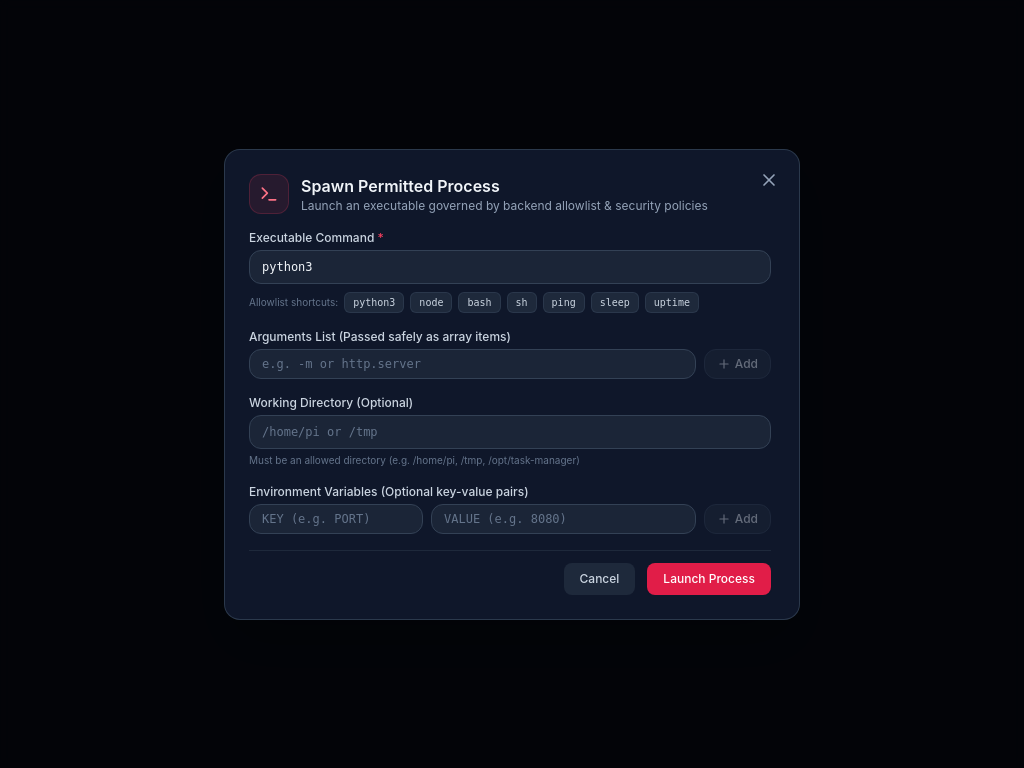
Test: CreateProcessDialog › Bug Fix 2: Form state resets on re-open › resets success view when dialog re-opens after a successful spawn
This screenshot has width=1024, height=768.
Later steps or results of the test are not shown.
Click the button "Launch Process" at (709, 578), box [647,562,771,594]
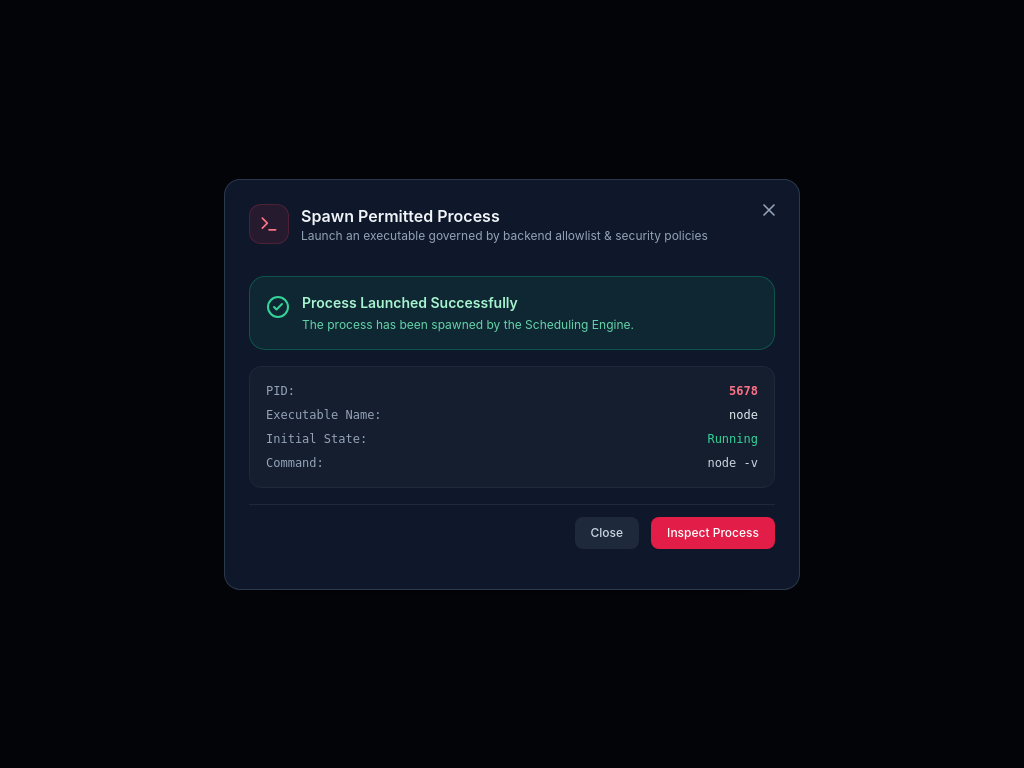
Check: the heading "Process Launched Successfully" is shown, box [302,294,518,310]
